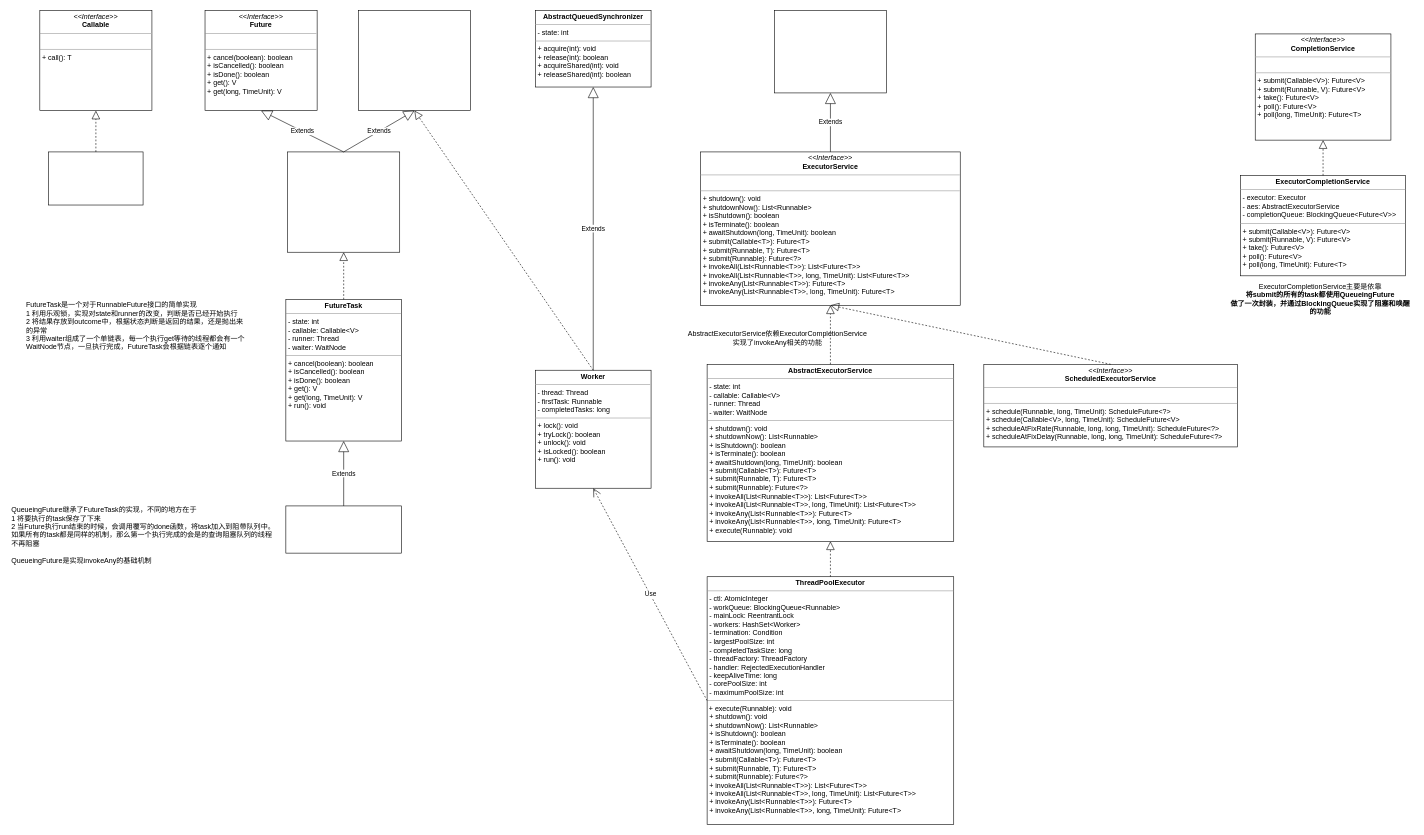
Some shapes in this 1424 by 835 pixel diagram are drawn without their labels. Each missing label, with the centre of its shape:
<<Interface>> Executor + execute(Runnable): void: the point at 830,51
<<Interface>> Runnable + run(): void: the point at 414,60
<<Interface>> RunnableFuture + run(): void: the point at 343,201
QueueingFuture - task: Future<V> done(): boolean: the point at 343,529
RunnableAdapter - task: Runnable - result: V + call(): V: the point at 95,178
